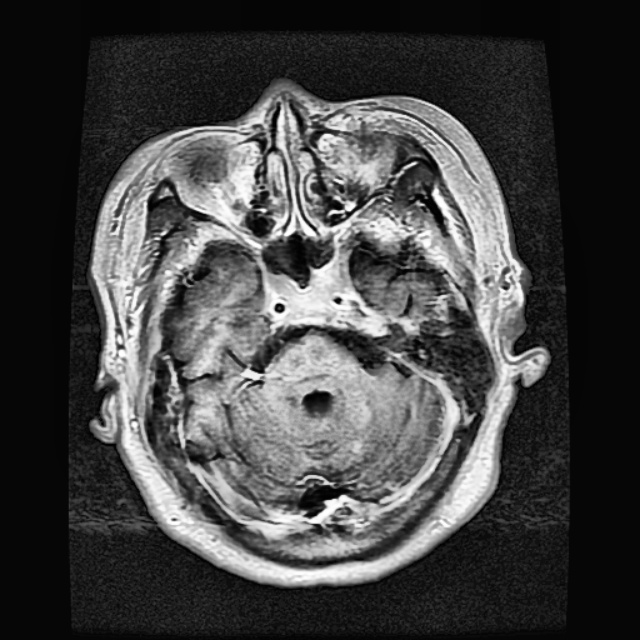Pituitary: (264, 262, 355, 327)
